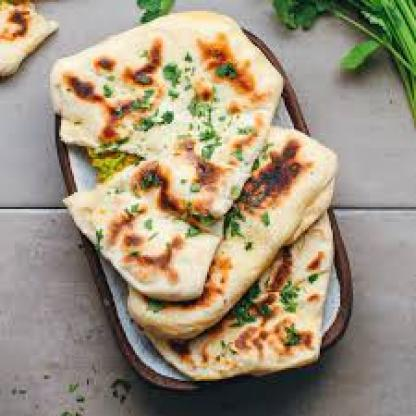naan: (50, 12, 284, 300), (127, 127, 338, 339), (146, 210, 336, 381)
